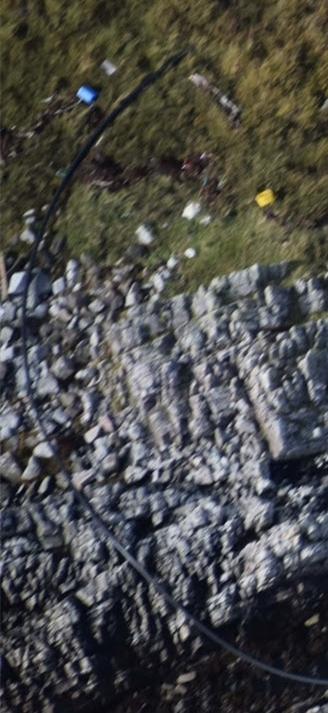together_barrel: (63, 41, 295, 216)
tube: (195, 620, 328, 690), (50, 110, 119, 206), (68, 480, 132, 560), (126, 558, 195, 620), (29, 395, 68, 478), (18, 209, 53, 299), (12, 300, 47, 390)
